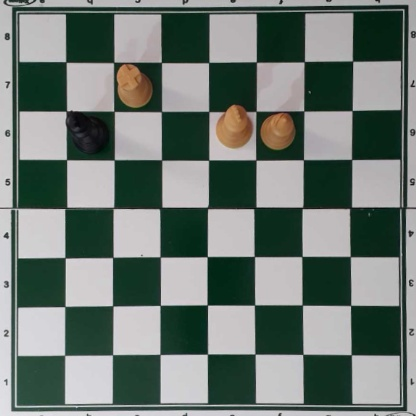black-king: (65, 109, 111, 155)
white-bishop: (261, 111, 294, 150)
white-king: (215, 103, 253, 149)
white-rook: (116, 63, 153, 108)
